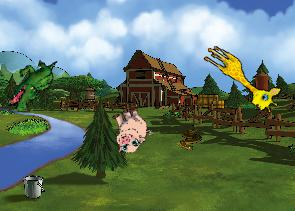crocodile: (5, 50, 59, 118)
giraffe: (195, 41, 286, 117)
pig: (104, 103, 155, 156)
